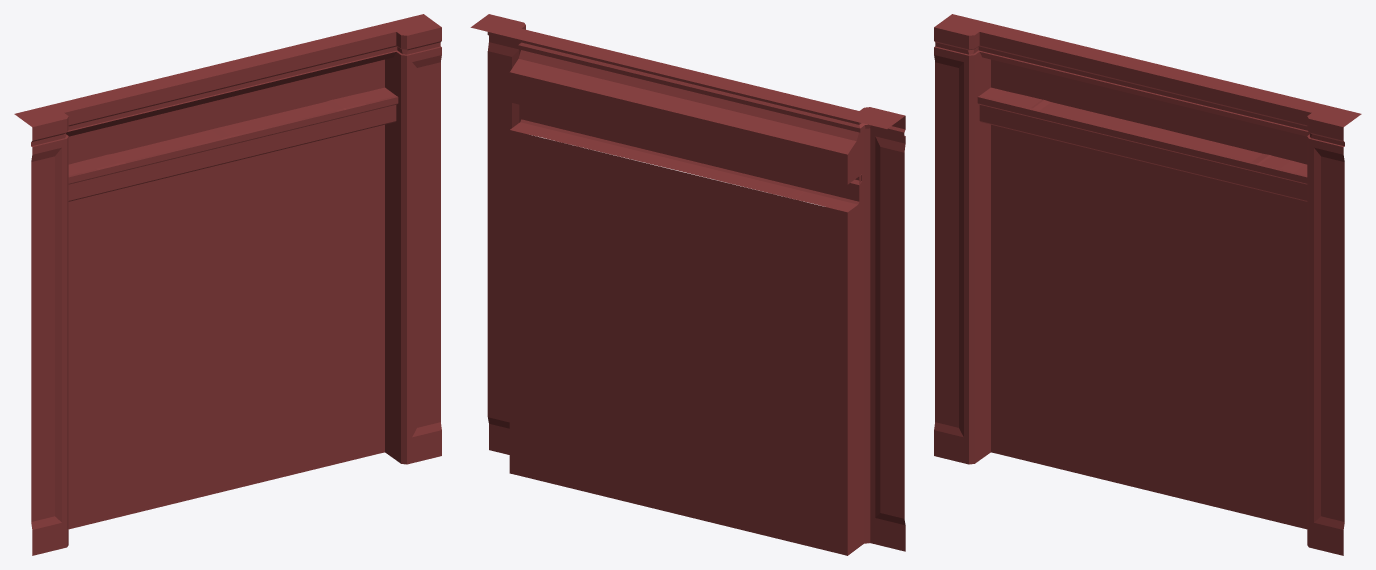
The model's file is O_V_FacadeVitrine1Blank_Down.fbx.
3 renders of one model, left to right at view 1: azimuth 30°, elevation 25°; view 2: azimuth 150°, elevation 25°; view 3: azimuth 330°, elevation 25°, orthographic.
Visible parts, largest first — view 1: O_FacadeVitrine1Blank_Down; view 2: O_FacadeVitrine1Blank_Down; view 3: O_FacadeVitrine1Blank_Down.
Part boxes in pixels (bbox=[...]): O_FacadeVitrine1Blank_Down: bbox=[14, 14, 441, 555]; O_FacadeVitrine1Blank_Down: bbox=[470, 14, 905, 555]; O_FacadeVitrine1Blank_Down: bbox=[934, 14, 1361, 555].
Bounding box in the file's own units: 6.5 × 6.5 × 0.5013.
